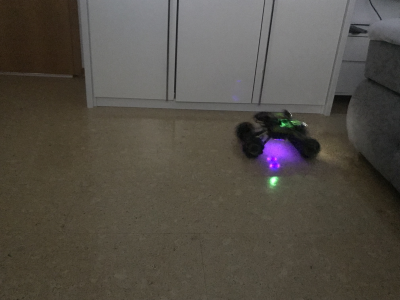remote control car: (232, 109, 322, 162)
